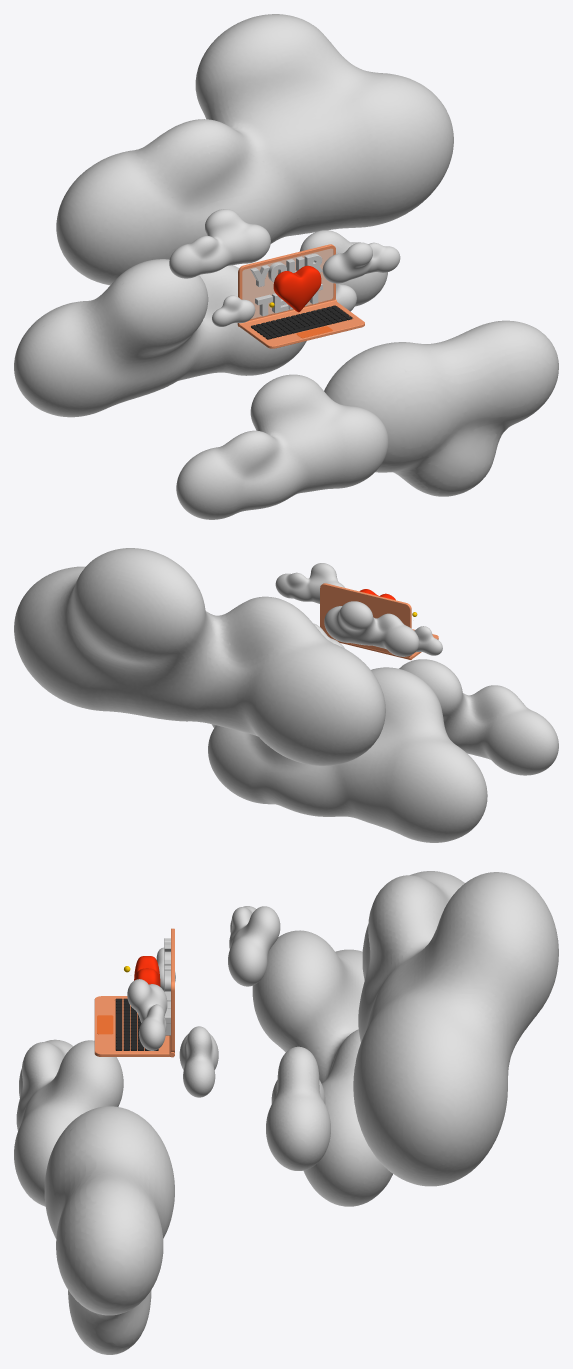
3 views of the same model, one above another, from view 1: azimuth 30°, elevation 25°; view 2: azimuth 150°, elevation 25°; view 3: azimuth 270°, elevation 25° (orthographic). The views are drawn at different scales.
Parts seen in each view (by area): view 1: Mball (×8), Boolean, Text, Rectangle 3, Cube, Boolean 2; view 2: Mball (×6), Boolean 2; view 3: Mball (×8), Boolean, Cube, Text.
Part boxes in pixels (<box>): Mball (×8): <box>14,14,558,519</box>; Boolean: <box>240,301,364,348</box>; Text: <box>250,253,322,316</box>; Rectangle 3: <box>242,248,333,318</box>; Cube: <box>273,265,321,312</box>; Boolean 2: <box>238,244,335,321</box>; Mball (×6): <box>14,548,558,842</box>; Boolean 2: <box>320,583,411,657</box>; Mball (×8): <box>14,871,558,1354</box>; Boolean: <box>94,996,170,1056</box>; Cube: <box>134,956,160,986</box>; Text: <box>164,938,170,1035</box>.
Bounding box in the file's own units: 31.94 × 24.12 × 26.47.
